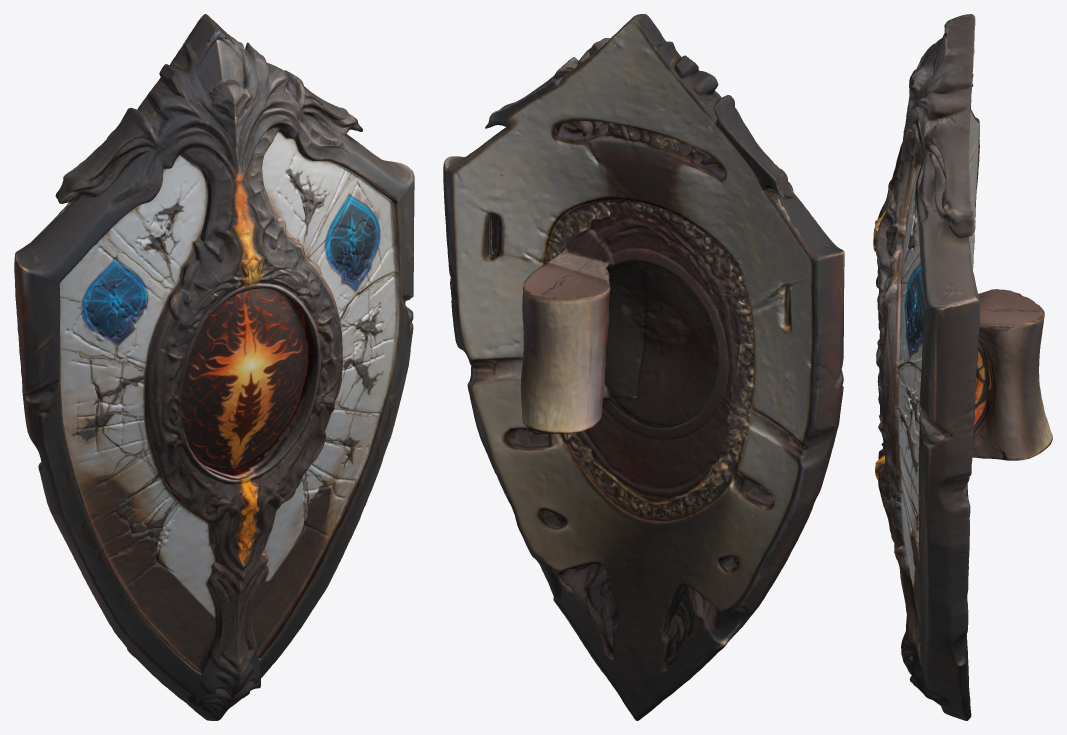
File: celestial_gateway_1204200745_texture.fbx
3 views of the same model, side by side, from view 1: azimuth 30°, elevation 25°; view 2: azimuth 150°, elevation 25°; view 3: azimuth 270°, elevation 25° (orthographic).
Visible parts, largest first — view 1: input; view 2: input; view 3: input.
Part boxes in pixels (bbox=[...]): input: bbox=[14, 14, 414, 720]; input: bbox=[443, 14, 844, 720]; input: bbox=[873, 14, 1052, 720].
Bounding box in the file's own units: 111 × 190 × 43.8.
Materials: 1 (1 with a texture image).
